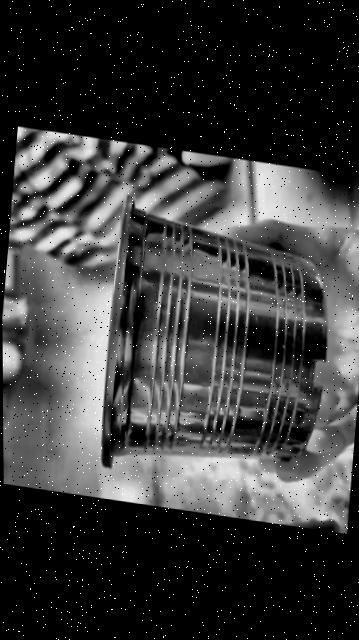pot: (101, 197, 324, 467)
